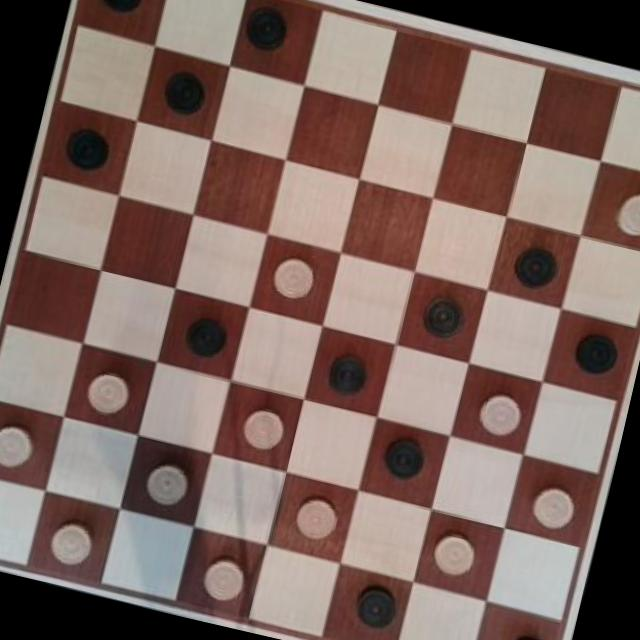BOARD: (0, 0, 640, 640)
black: (560, 320, 631, 388), (499, 232, 568, 301), (338, 572, 408, 636), (146, 56, 212, 121), (317, 338, 378, 402), (56, 117, 120, 177), (370, 423, 430, 486), (414, 285, 473, 347), (177, 306, 236, 364), (240, 0, 293, 54), (490, 620, 560, 640), (91, 0, 151, 18)
white: (40, 506, 106, 574), (190, 541, 256, 606), (468, 382, 530, 444), (524, 472, 586, 533), (264, 248, 322, 310), (424, 524, 485, 582), (77, 362, 137, 419), (140, 452, 196, 513), (233, 400, 291, 458), (288, 492, 346, 548), (0, 412, 44, 477), (603, 179, 640, 247)
